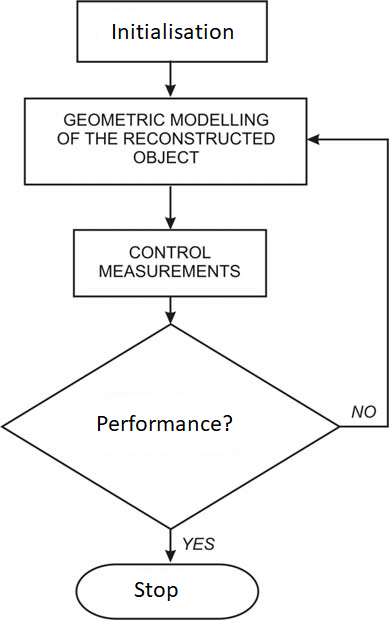arrow: (305, 132, 389, 436), (162, 182, 178, 229), (162, 57, 178, 99), (163, 522, 178, 562), (163, 293, 179, 326)
decision: (2, 322, 343, 532)
process: (20, 93, 310, 189), (69, 225, 271, 300), (72, 2, 272, 66)
terminator: (72, 559, 262, 620)
text: (54, 108, 277, 169), (96, 239, 242, 282), (94, 410, 237, 434), (110, 20, 237, 43), (131, 577, 179, 605), (180, 534, 217, 552), (348, 403, 378, 422)
